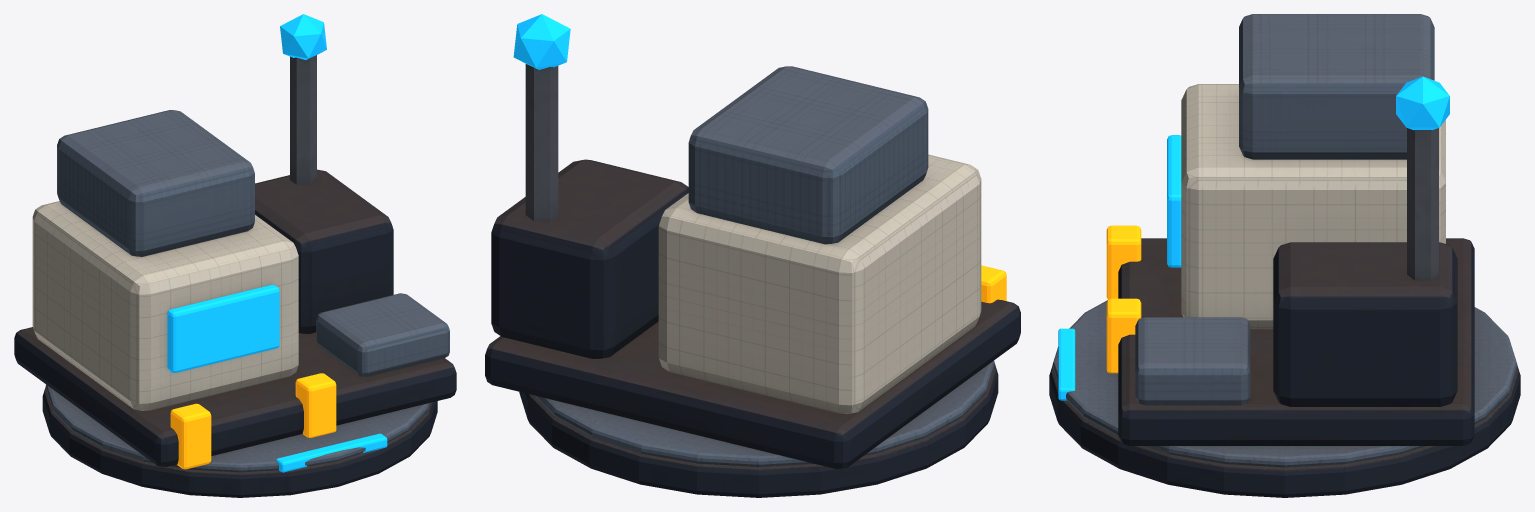
Rendered from depot.glb.
3 renders of one model, left to right at view 1: azimuth 30°, elevation 25°; view 2: azimuth 150°, elevation 25°; view 3: azimuth 270°, elevation 25°, orthographic. The views are drawn at different scales.
Visible parts, largest first — view 1: Android Graphite, Android Chassis, Android Ceramic, Android FactionAccent, Android Energy; view 2: Android Graphite, Android Ceramic, Android Chassis, Android FactionAccent, Android Energy; view 3: Android Graphite, Android Chassis, Android Ceramic, Android FactionAccent, Android Energy.
Part boxes in pixels (x1,y1,x2,y2): Android Graphite: (14,55,456,497); Android Chassis: (45,110,449,472); Android Ceramic: (32,201,298,410); Android FactionAccent: (167,14,387,472); Android Energy: (170,373,336,469); Android Graphite: (485,64,1020,497); Android Ceramic: (658,154,981,413); Android Chassis: (534,66,994,466); Android FactionAccent: (513,14,570,69); Android Energy: (981,265,1006,303); Android Graphite: (1049,128,1520,497); Android Chassis: (1052,14,1517,467); Android Ceramic: (1181,84,1445,329); Android FactionAccent: (1058,76,1449,400); Android Energy: (1106,225,1141,373).
Bounding box in the file's own units: 0.82 × 0.758 × 0.82.
6 materials, 4 textured.
